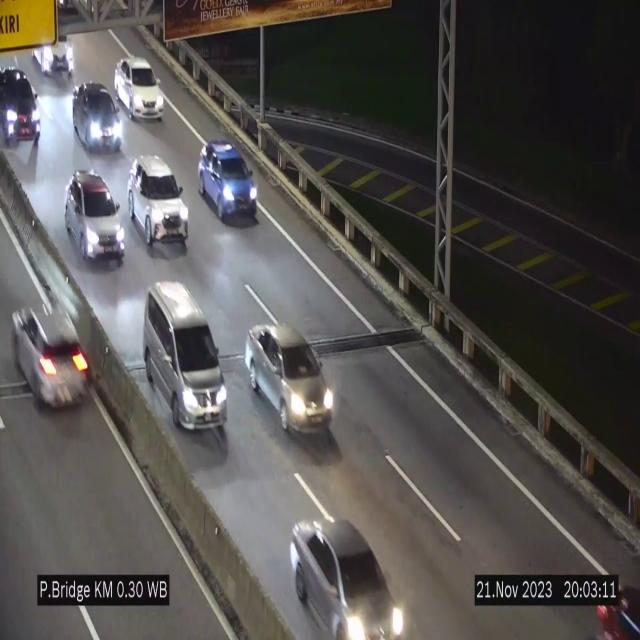Car: (290, 505, 404, 640), (143, 282, 227, 431), (9, 282, 94, 417), (244, 324, 337, 436), (127, 156, 188, 254), (65, 172, 124, 260), (198, 140, 258, 222), (0, 63, 48, 152), (75, 81, 126, 162), (32, 17, 82, 85), (114, 57, 164, 119)
